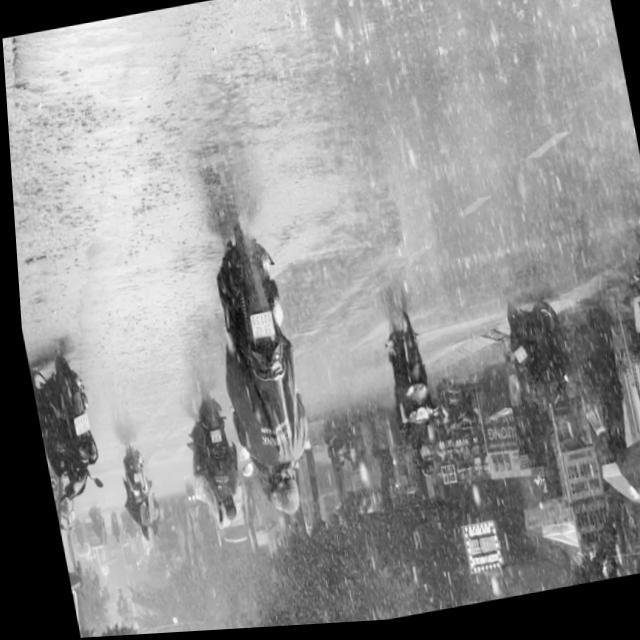helmet: (262, 468, 297, 521)
licenseplate: (191, 217, 323, 531)
nohelmet: (243, 314, 269, 342)
